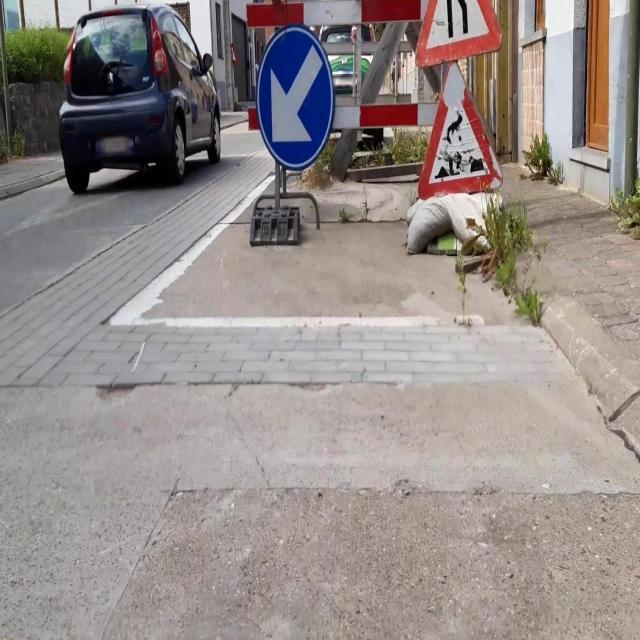Automobile: (59, 6, 220, 193)
Obstacle: (408, 62, 501, 252), (256, 25, 334, 169), (407, 193, 503, 253), (416, 0, 500, 66), (245, 0, 420, 27), (314, 182, 414, 222), (361, 23, 407, 103), (333, 96, 418, 130), (251, 197, 299, 245), (331, 130, 359, 178)
Road: (0, 133, 269, 332)
Sidewalk: (0, 181, 639, 639)
